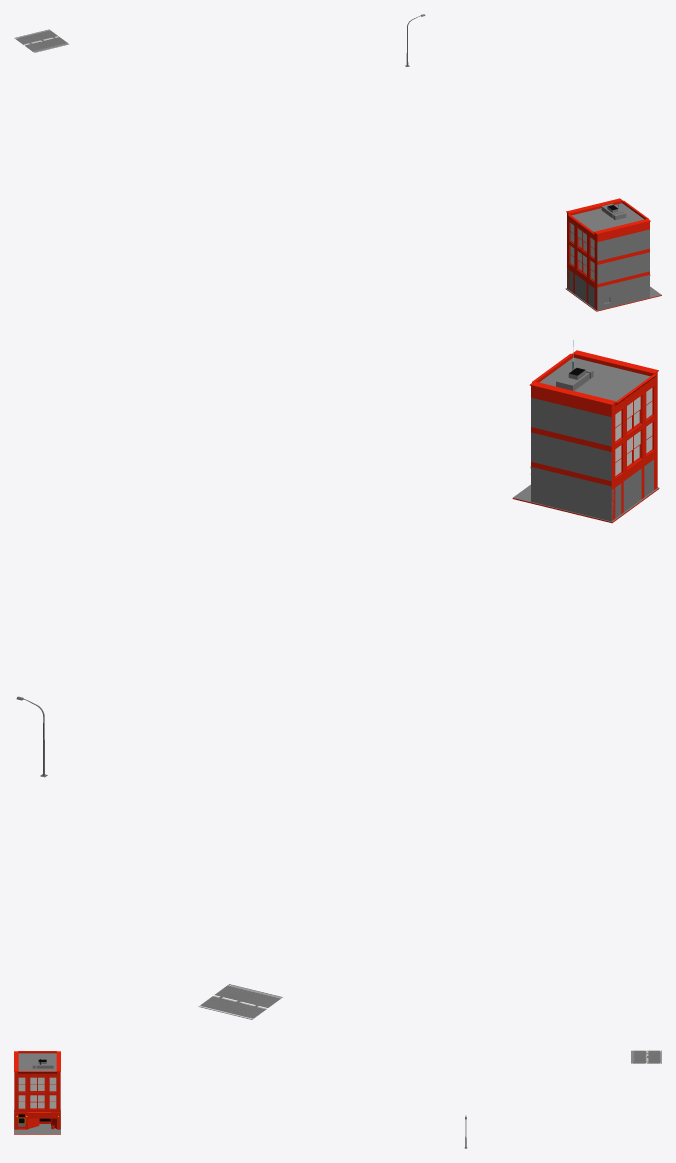
File: road map.gltf
3 views of the same model, one above another, from view 1: azimuth 30°, elevation 25°; view 2: azimuth 150°, elevation 25°; view 3: azimuth 270°, elevation 25° (orthographic). The views are drawn at different scales.
Visible parts, largest first — view 1: Plane.015, Plane.001; view 2: Plane.015, Plane.001; view 3: Plane.015, Plane.001.
Part boxes in pixels (x1=…): Plane.015: x1=565, y1=198, x2=661, y2=311; Plane.001: x1=14, y1=29, x2=68, y2=52; Plane.015: x1=512, y1=340, x2=659, y2=523; Plane.001: x1=198, y1=984, x2=282, y2=1019; Plane.015: x1=14, y1=1051, x2=60, y2=1134; Plane.001: x1=631, y1=1050, x2=661, y2=1063.
Size of the model in its own units: 32.02 by 10.88 by 83.33.
Materials: 3 (2 with a texture image).
